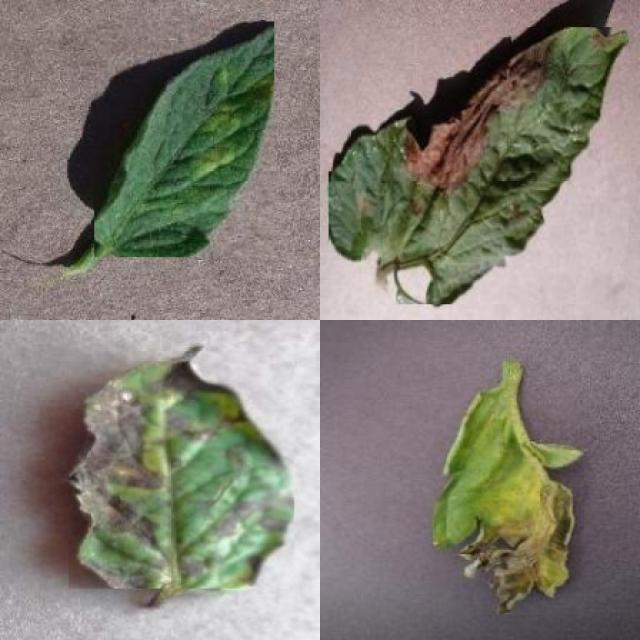Early Blight: (69, 345, 294, 589)
Late Blight: (328, 28, 628, 305), (434, 382, 585, 614)
Leaf Mold: (95, 22, 275, 257)
